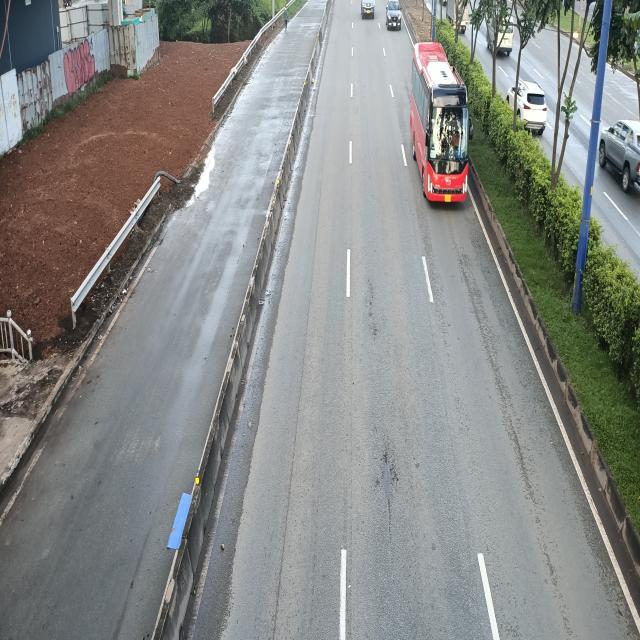car: (386, 0, 401, 32)
coach: (410, 44, 473, 208)
